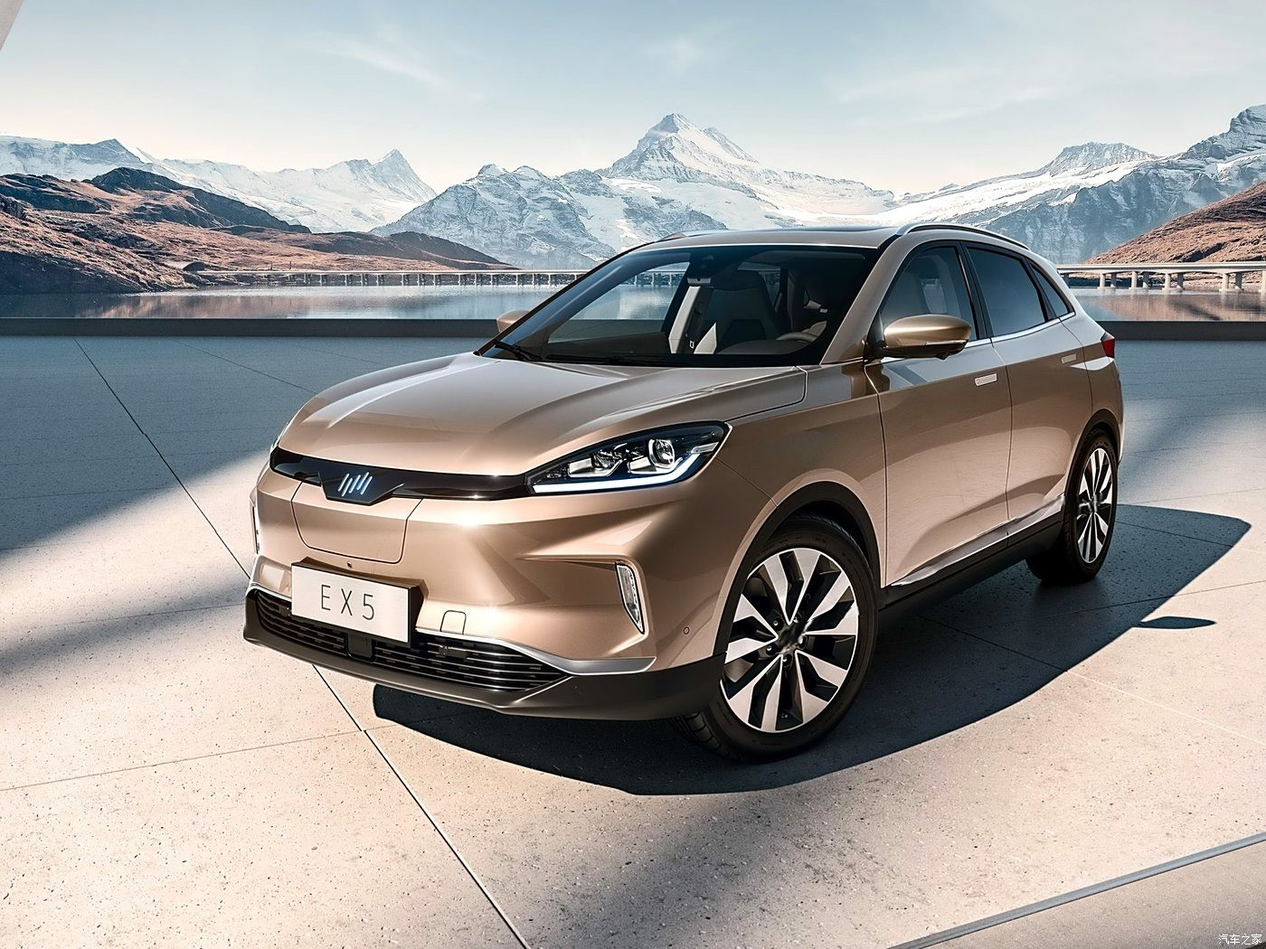WELTMEISTER: (339, 473, 373, 495)
